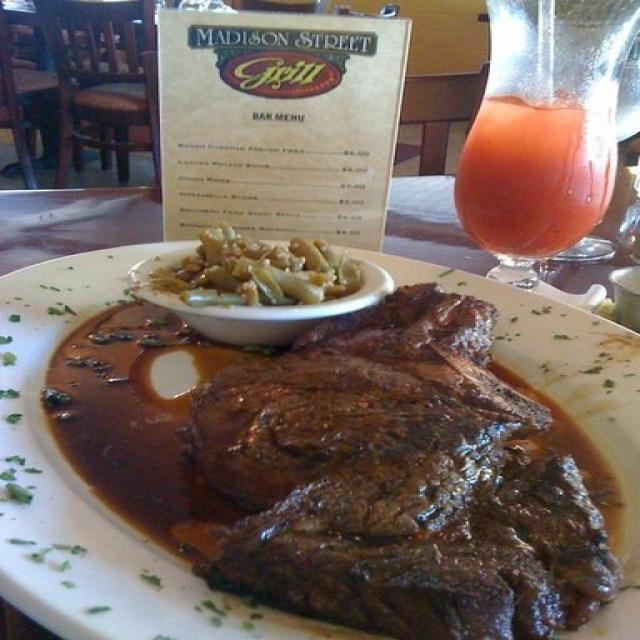Steak: (98, 272, 620, 640)
